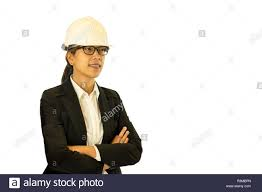Person_wearing_helmet: (58, 13, 116, 60)
